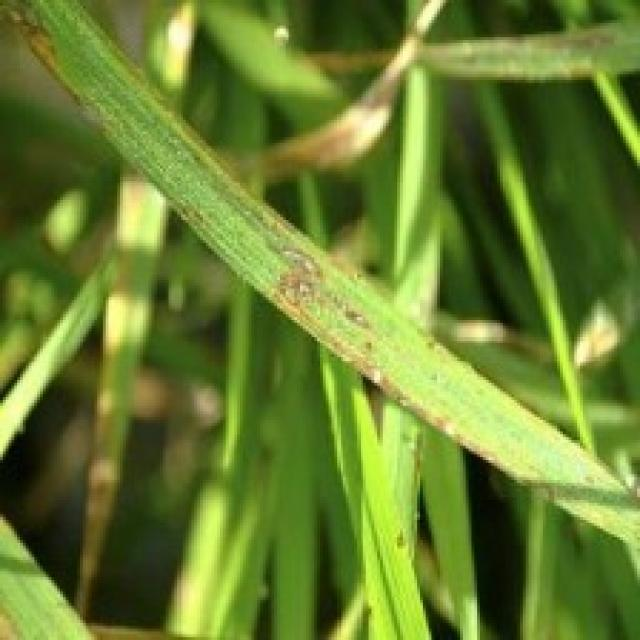Rice___Rice_Blast: (0, 0, 637, 558)
